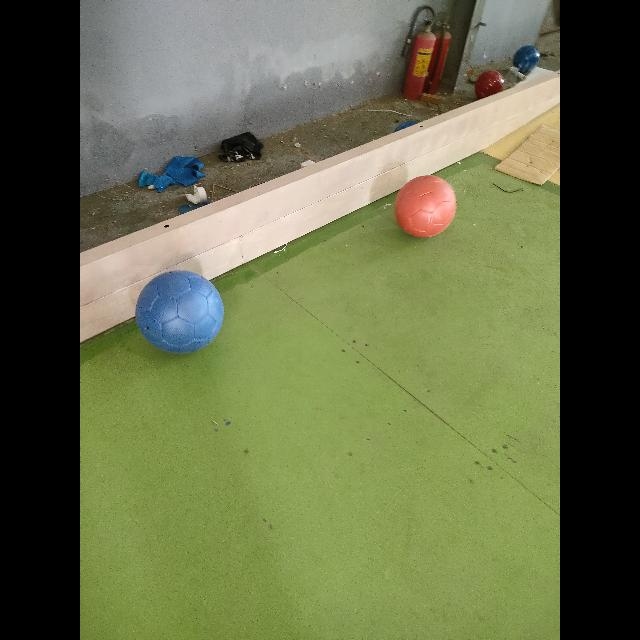B: (135, 271, 224, 354)
R: (394, 175, 456, 238)
